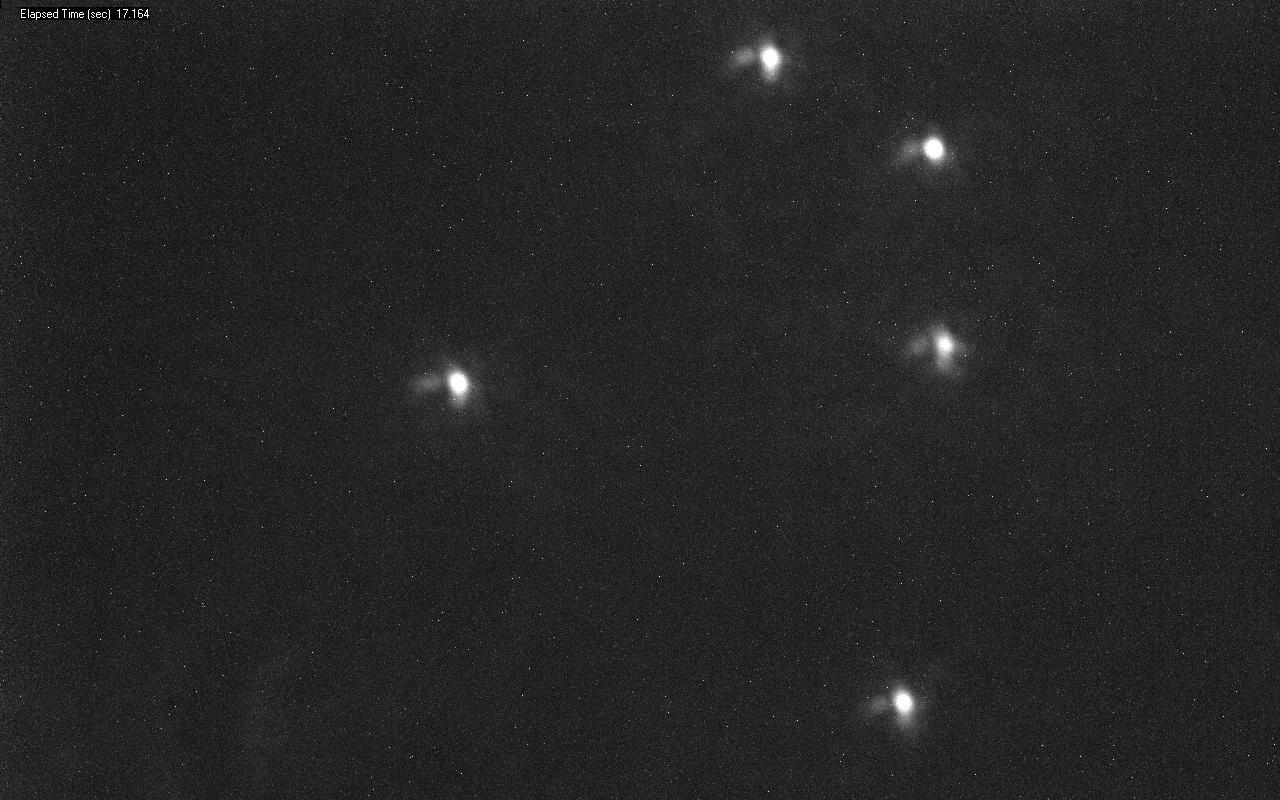Bead: (756, 42, 782, 77), (934, 331, 958, 364), (922, 136, 947, 164), (890, 690, 914, 718), (445, 371, 469, 398)
